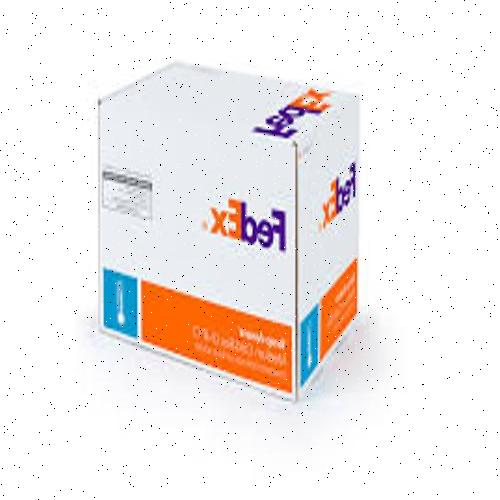FedEx: (87, 62, 374, 397)
